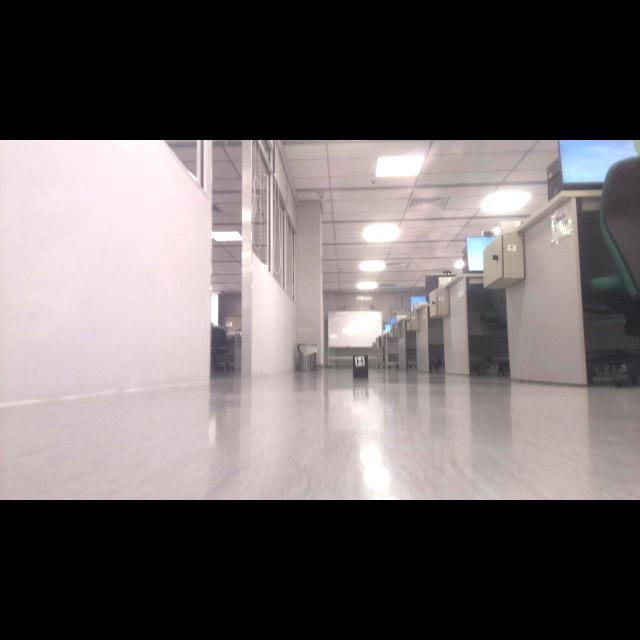H: (357, 356, 363, 365)
